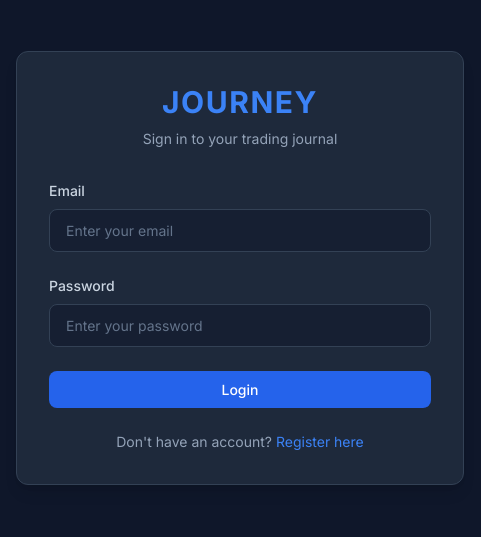
it: Login Page › should show error message on failed login (401)
# Fill and submit form
Type "test@test.com" into the field with placeholder "Enter your email". click: (240, 230)
box: [49,209,431,252]
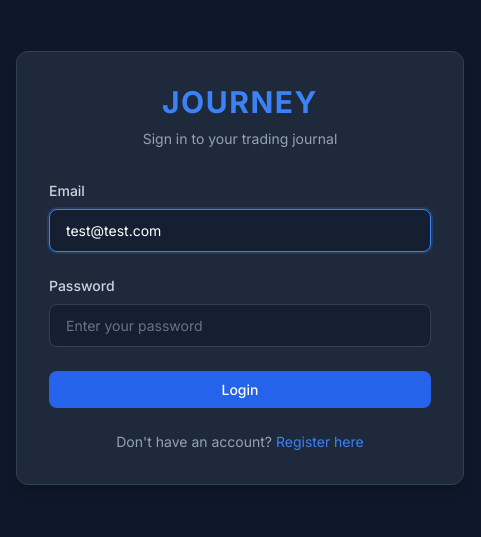
Type "wrongpassword" into the password field with placeholder "Enter your password". click: (240, 326)
box: [49,304,431,347]
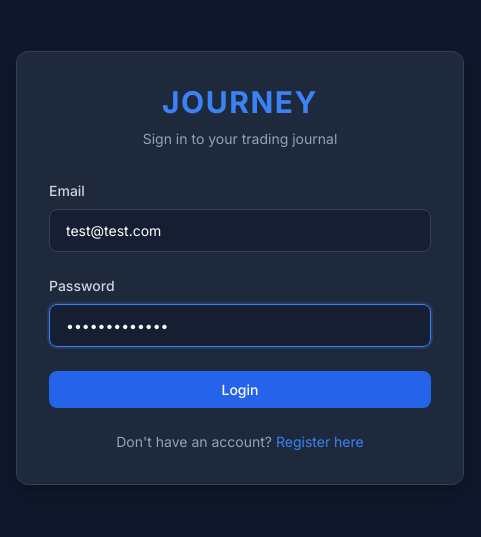
Click the button "Login". click: (240, 390)
box: [49,371,431,408]
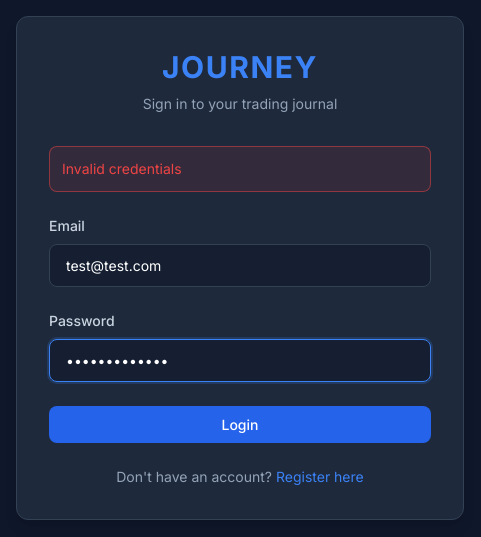
Result: the text "Invalid credentials" is shown at [49,146,431,192]
